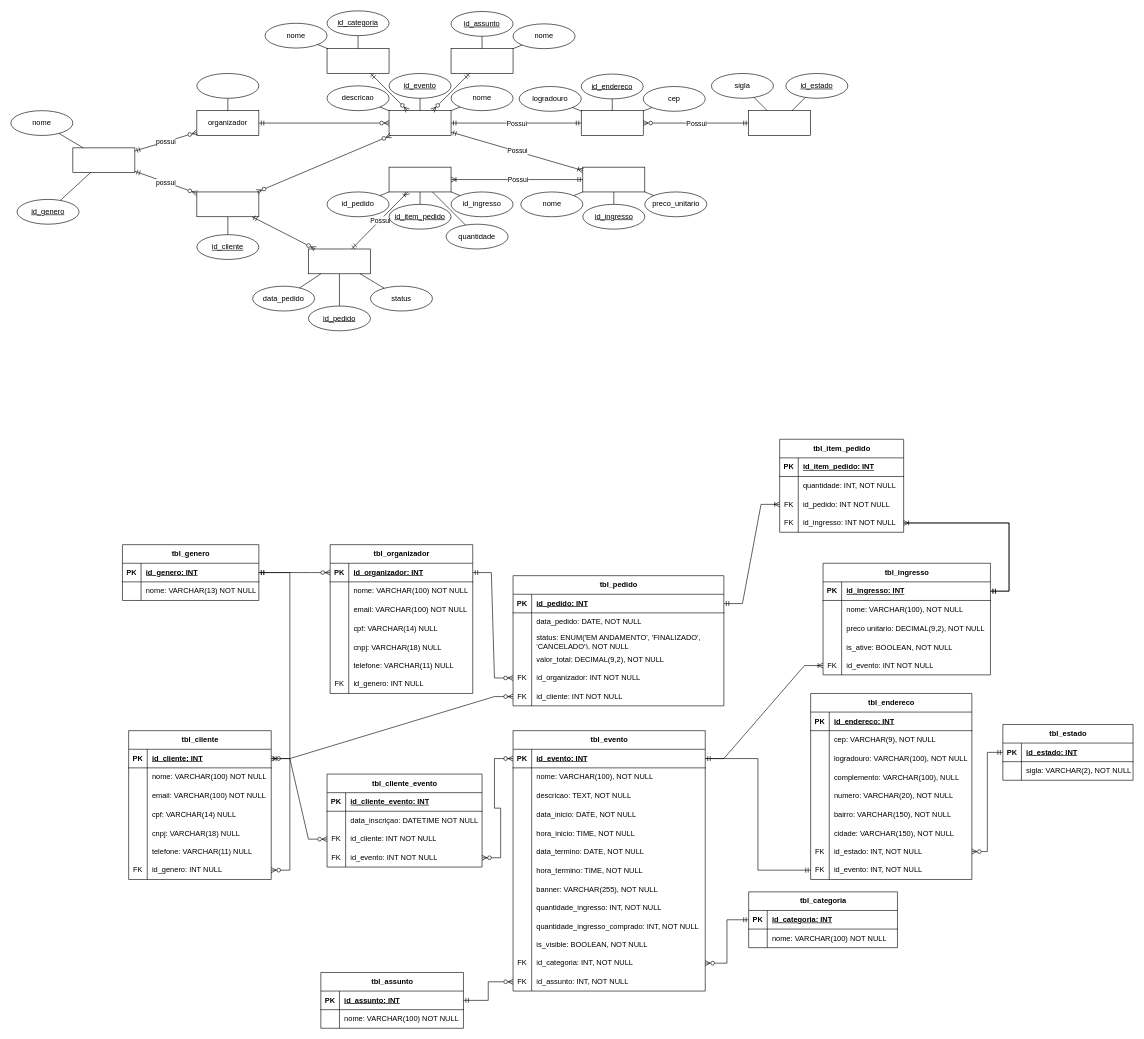
Image size: 1144x1039. Some labels were removed from this diagram. The centre of each missing label's shape, as x and y in pixels:
"assunto" goes at (x=481, y=60).
"categoria" goes at (x=357, y=60).
"cliente" goes at (x=227, y=204).
"endereco" goes at (x=612, y=122).
"estado" goes at (x=779, y=122).
"evento" goes at (x=419, y=122).
"genero" goes at (x=103, y=160).
"id_organizador" goes at (x=227, y=85).
"ingresso" goes at (x=613, y=179).
"item_pedido" goes at (x=419, y=179).
"pedido" goes at (x=339, y=261).
